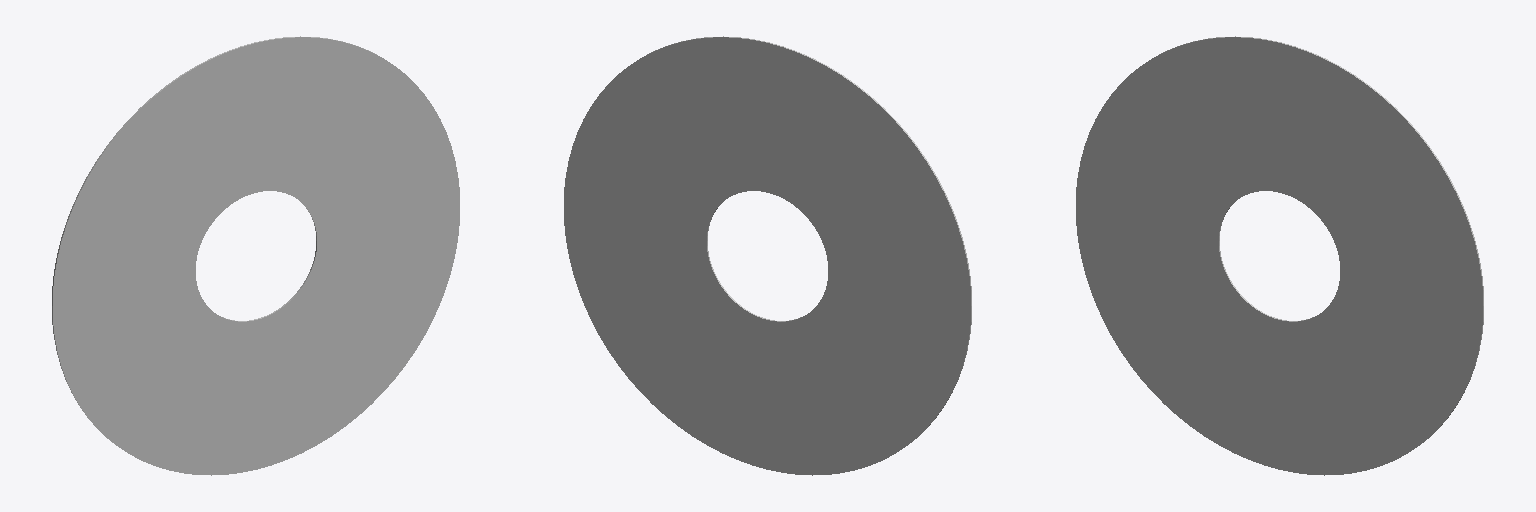
Rendered from rings.obj.
3 views of the same model, side by side, from view 1: azimuth 30°, elevation 25°; view 2: azimuth 150°, elevation 25°; view 3: azimuth 330°, elevation 25° (orthographic).
Parts seen in each view (by area): view 1: Circle; view 2: Circle; view 3: Circle.
Boxes of the visible parts, x1=… form: Circle: x1=52, y1=36, x2=459, y2=475; Circle: x1=564, y1=36, x2=971, y2=475; Circle: x1=1076, y1=36, x2=1483, y2=475.
Bounding box in the file's own units: 9.96 × 9.96 × 0.04.